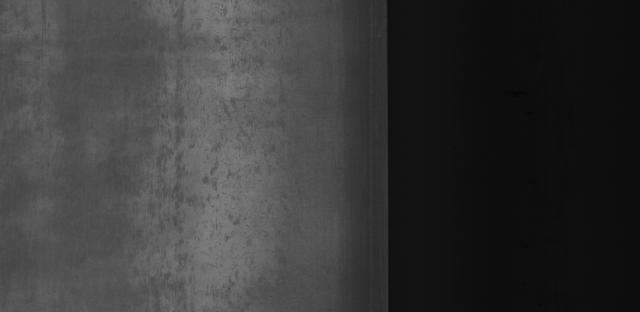silk_spot: (165, 78, 282, 161)
